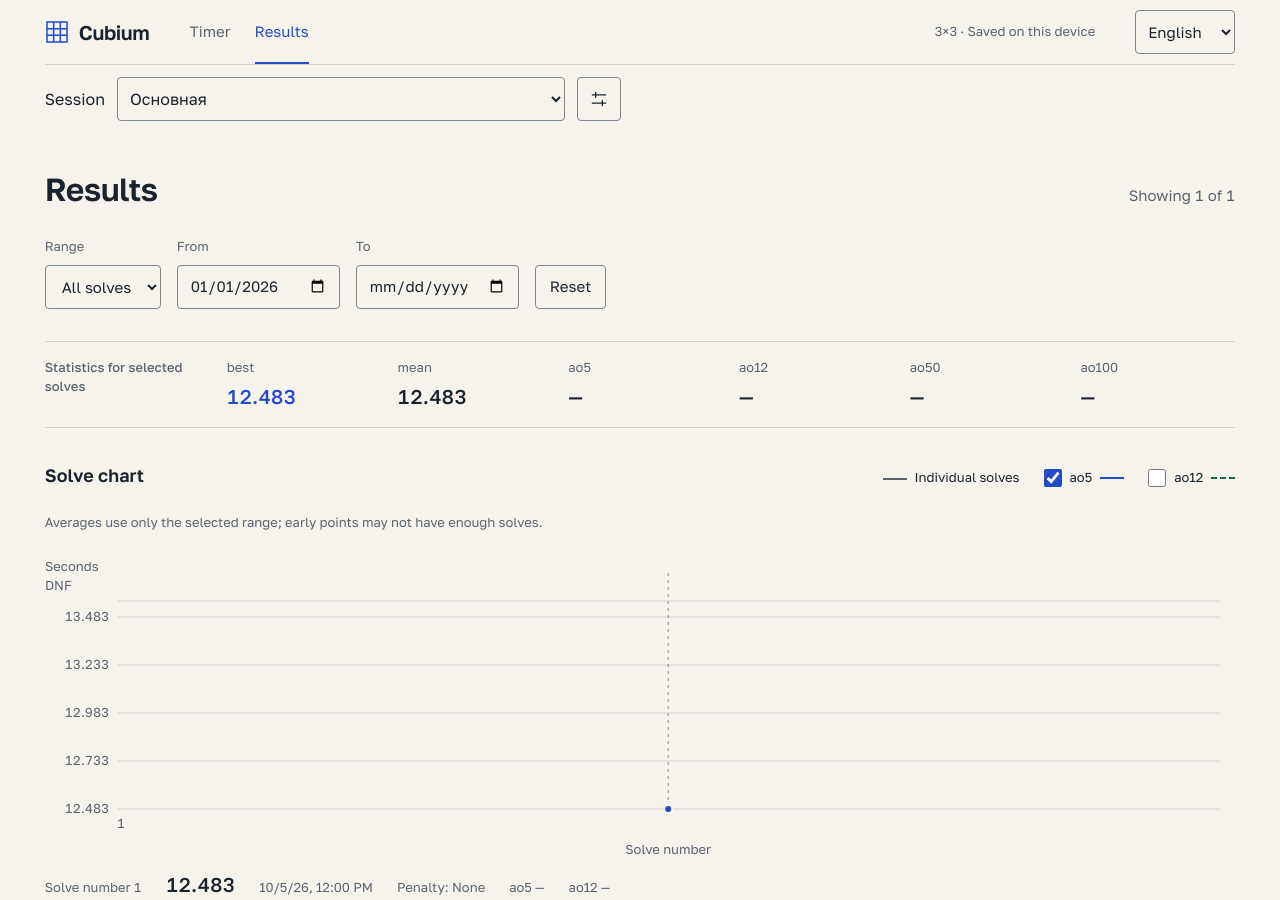
it: resets a filtered Results URL when creation switches the session inside the protected manager
The image size is (1280, 900).
Expected: the dropdown labelled "Session" is shown, left=117, top=77, right=565, bottom=121
Click the button named "Manage sessions" at (599, 99), box left=577, top=77, right=621, bottom=121
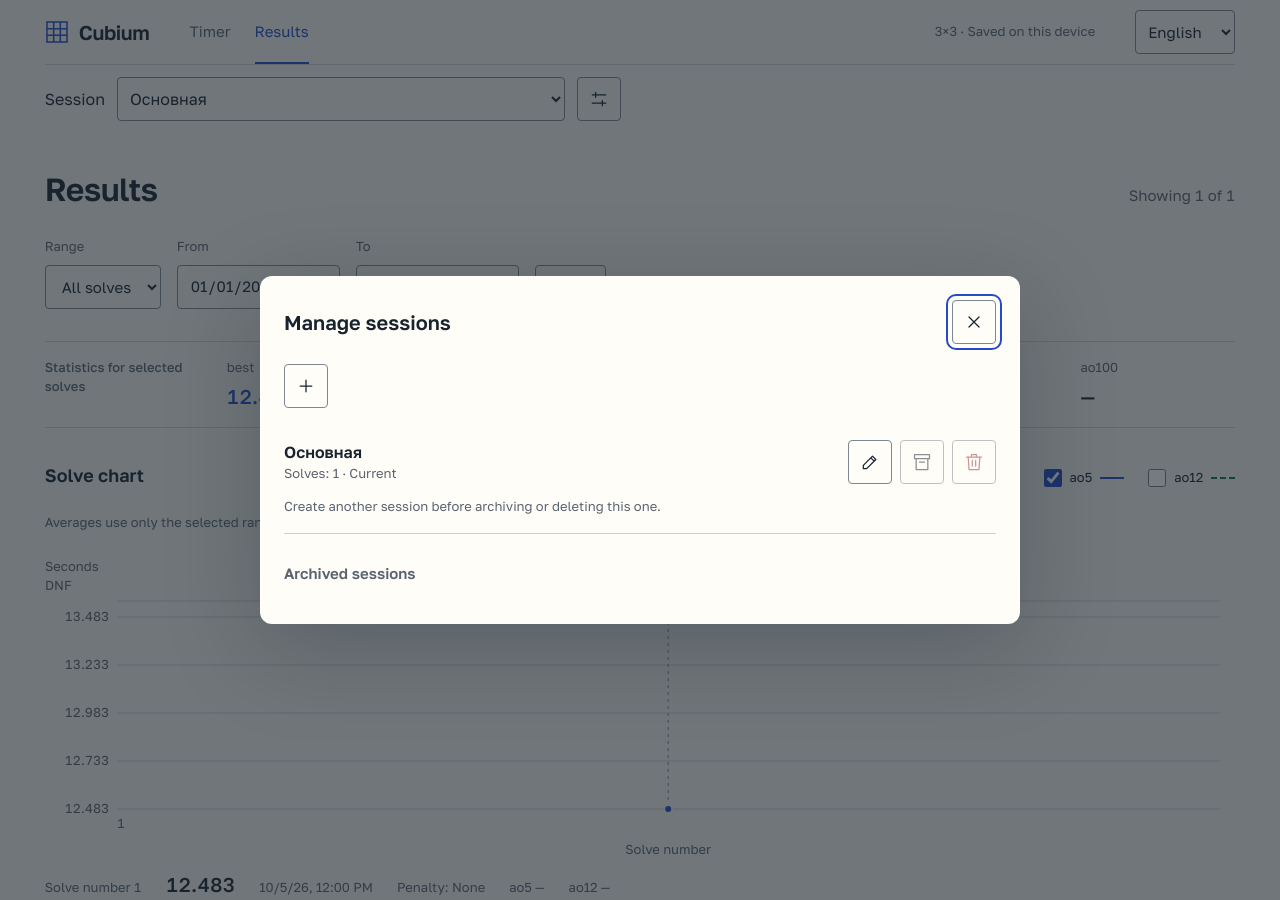
Result: the button named "Close" is empty at left=952, top=300, right=996, bottom=344
Result: the button named "Create session" is empty
Click the button named "Create session" at (306, 386), box left=284, top=364, right=328, bottom=408
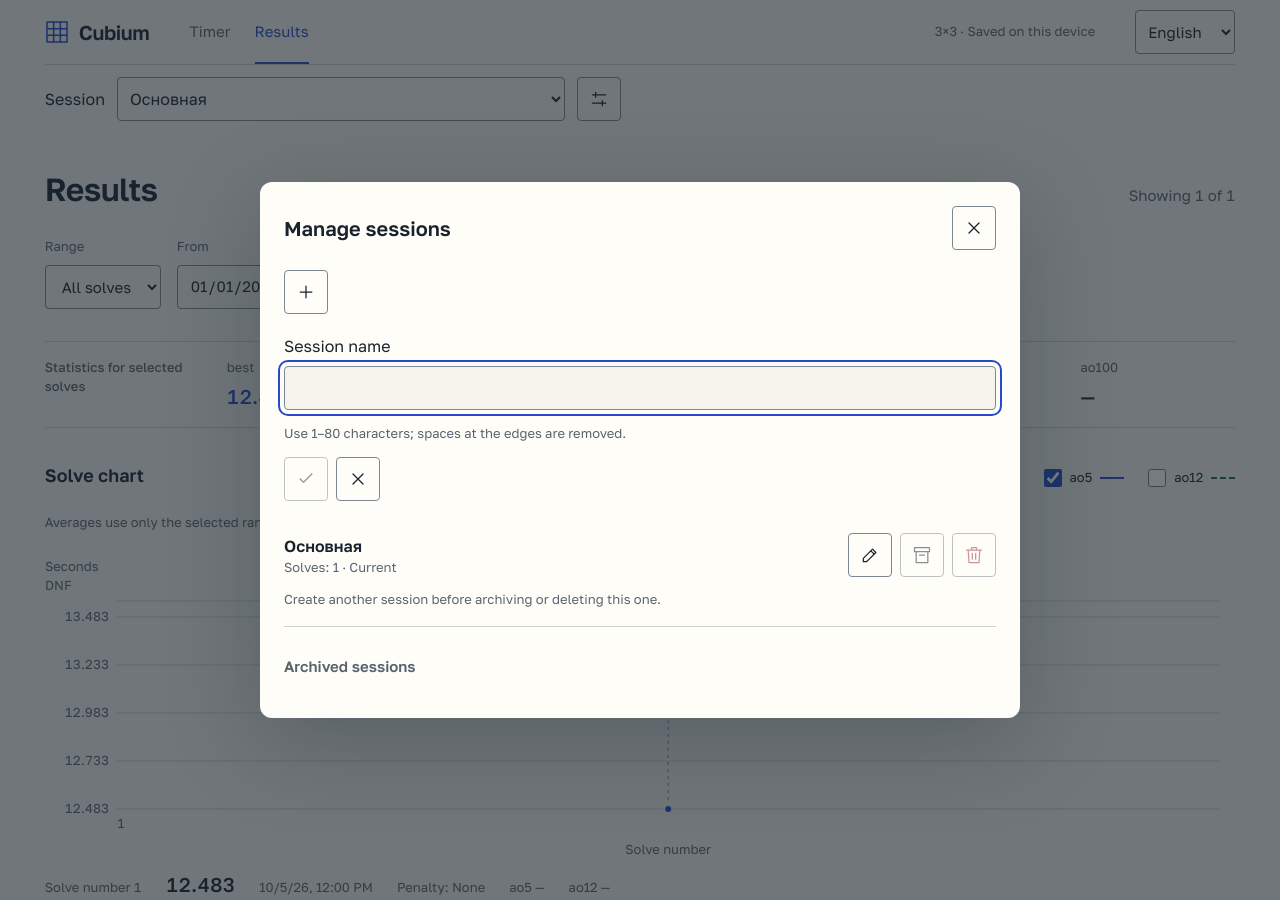
Type "Filtered session" into the field labelled "Session name" at (640, 388), box left=284, top=366, right=996, bottom=410
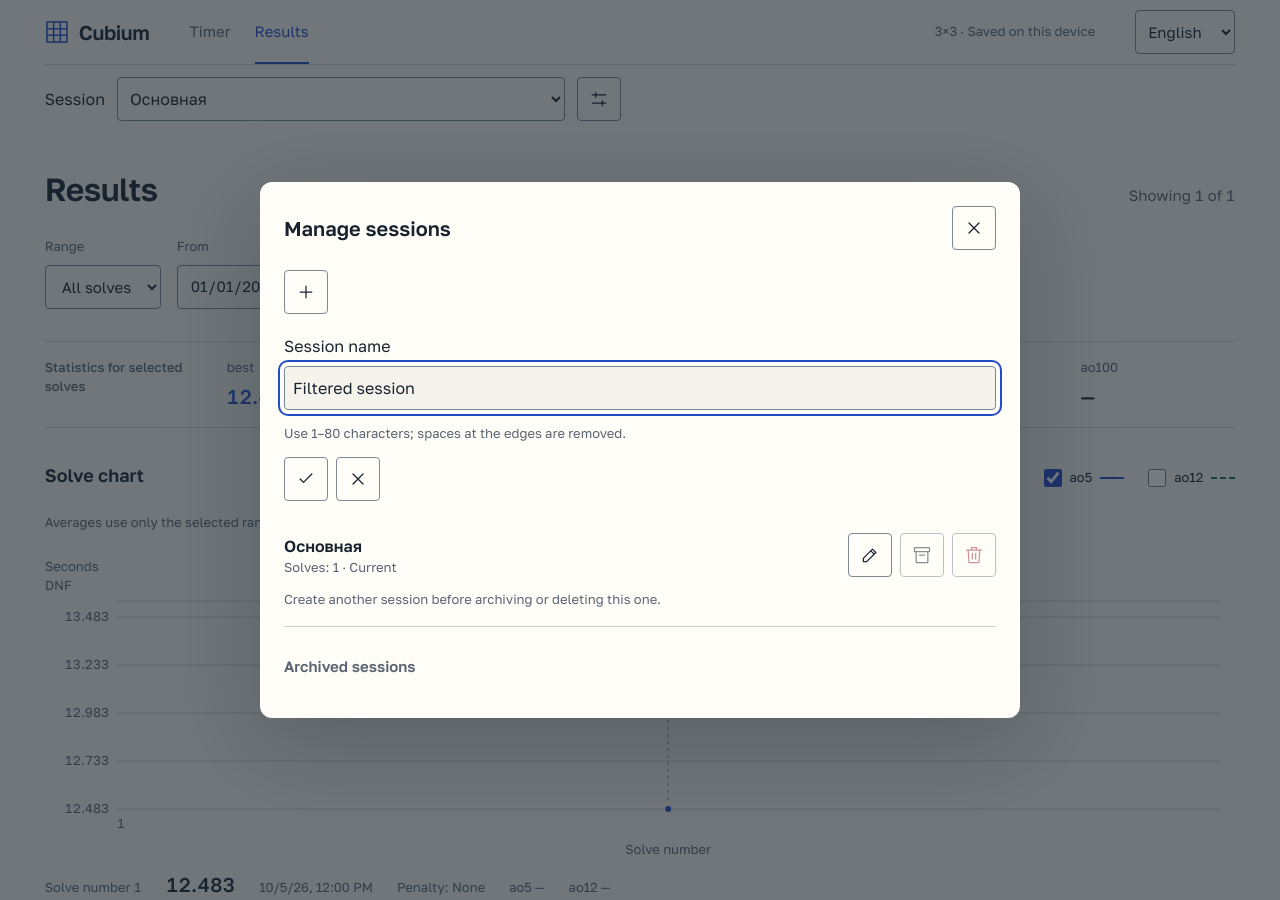
Result: the button named "Save session" is empty
Click the button named "Save session" at (306, 479), box left=284, top=457, right=328, bottom=501
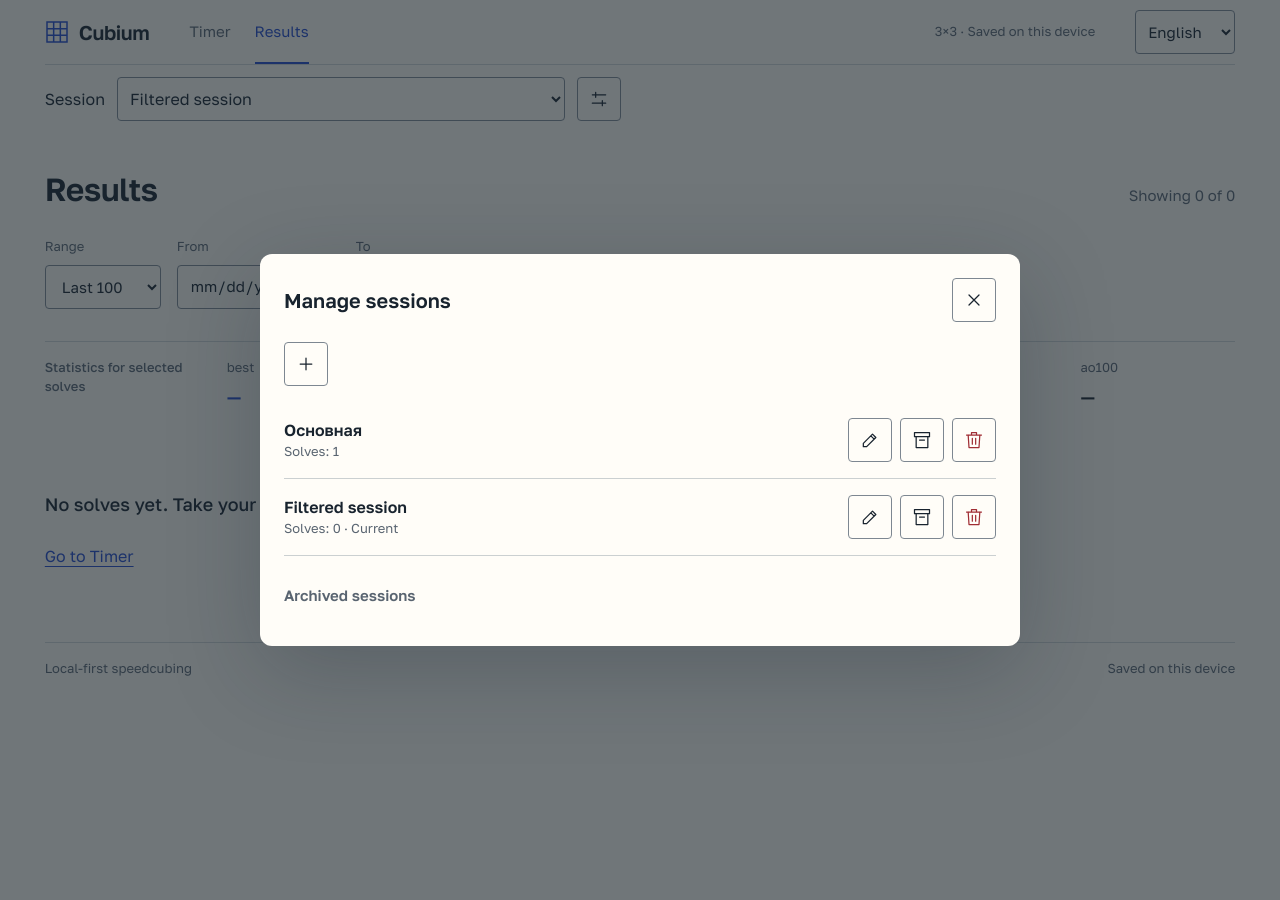
Result: the dialog "Manage sessions" is shown at left=260, top=254, right=1020, bottom=646
Result: the field is gone
Result: the dropdown labelled "Range" shows "Last 100" at left=45, top=264, right=161, bottom=308
